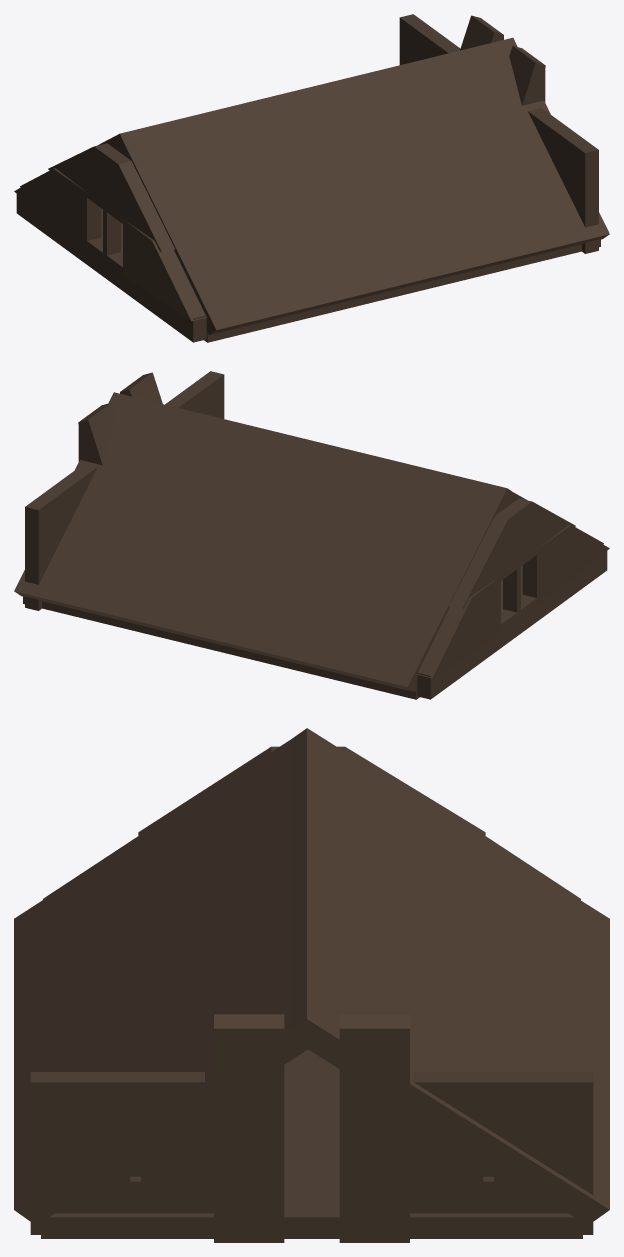
Rendered from buhardilla.fbx.
3 renders of one model, top to bottom at view 1: azimuth 30°, elevation 25°; view 2: azimuth 150°, elevation 25°; view 3: azimuth 270°, elevation 25°, orthographic. The views are drawn at different scales.
Visible parts, largest first — view 1: Cube; view 2: Cube; view 3: Cube.
Boxes of the visible parts, x1,y1,x2,y2 form: Cube: (14, 14, 609, 342); Cube: (14, 371, 609, 699); Cube: (14, 728, 609, 1242).
Size of the model in its own units: 6015 by 2058 by 4989.
